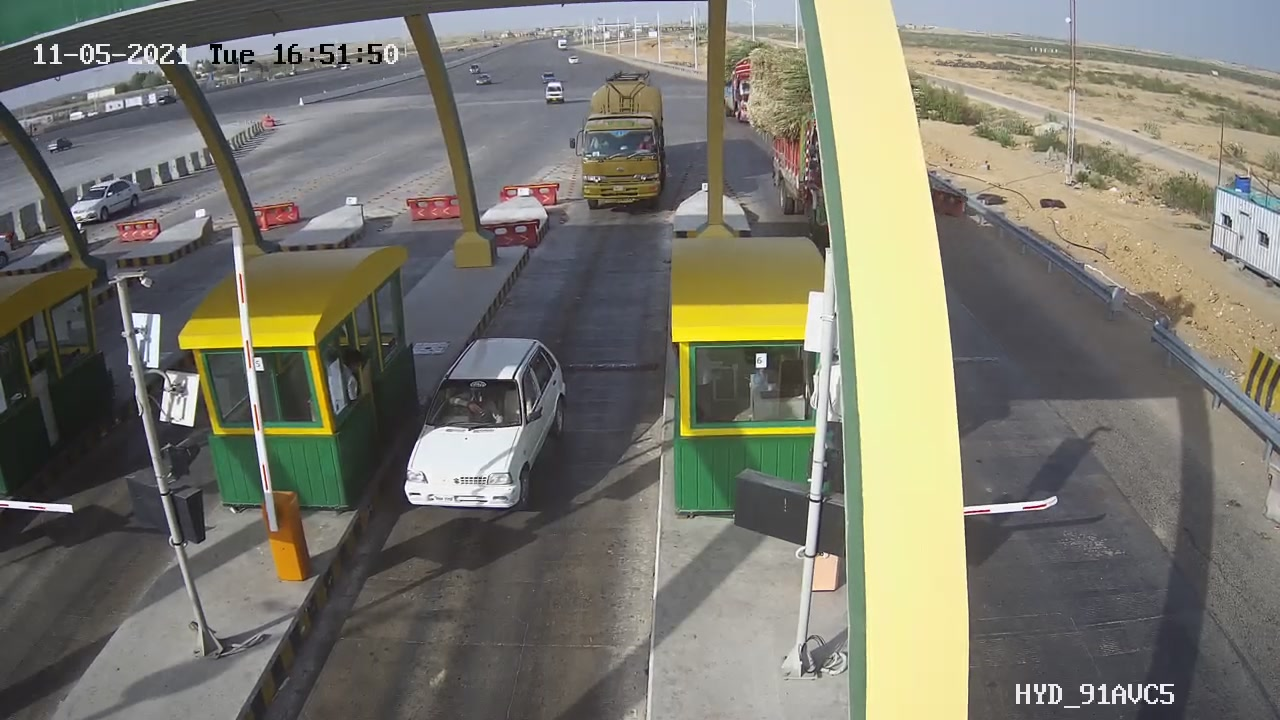F1: (385, 320, 588, 540)
